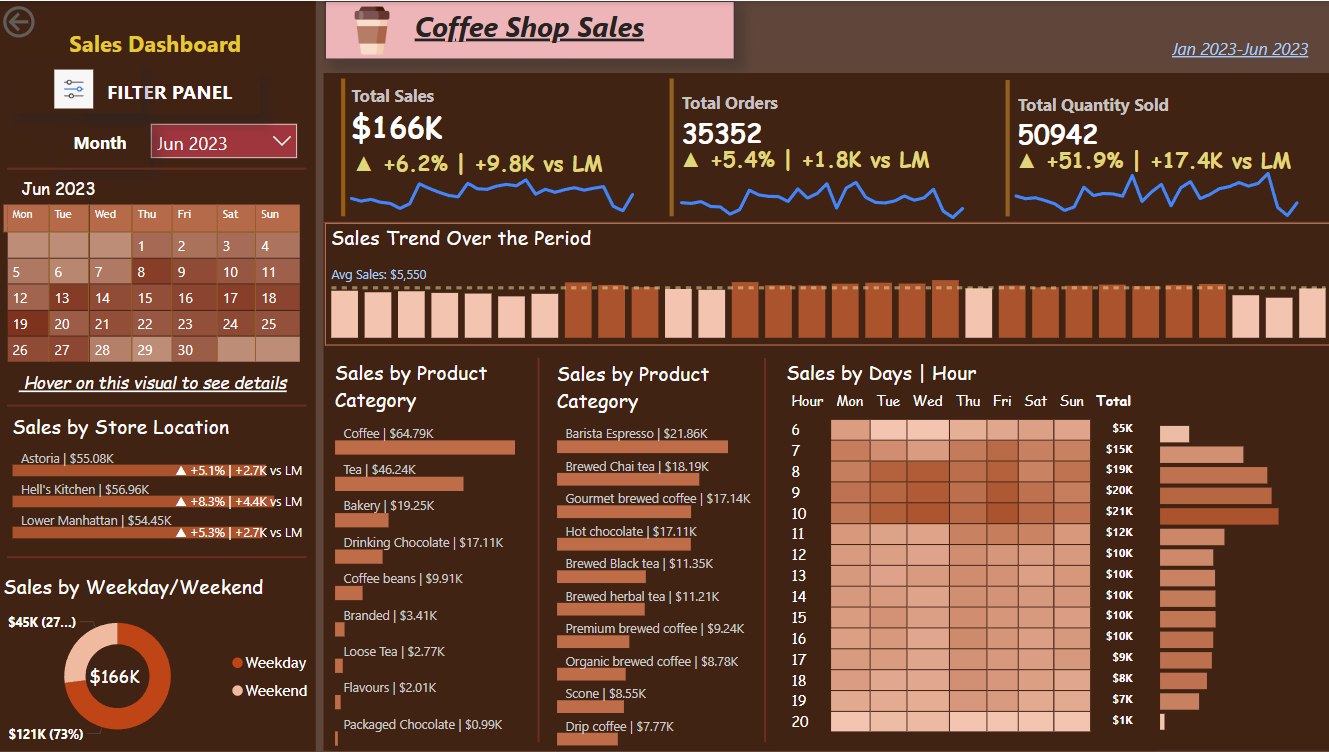

The dashboard page shown, as its layout file describes it:
{"tool":"powerbi","page":{"name":"Page 1","canvas":[1280,720],"ordinal":0},"visuals":[{"type":"textbox","box":[313.5,0,392.6,56.1],"z":0},{"type":"cardVisual","fields":{"Data":["Transactions.MoM Growth & Diff Sales"]},"box":[574.6,159.3,296.6,81.4],"z":1000},{"type":"textbox","box":[311.5,68.8,969,142.9],"z":2000},{"type":"slicer","fields":{"Values":["Date_Table.Month Year"]},"box":[25.4,113.6,193.2,47.5],"z":3000},{"type":"cardVisual","fields":{"Data":["Transactions.Total Sales"]},"box":[323.6,68.8,277.1,142.9],"z":4000},{"type":"cardVisual","fields":{"Data":["Transactions.Total Quantity Sold"]},"box":[960.4,70.6,320.1,141.1],"z":5000},{"type":"textbox","box":[0,0,304.7,719.5],"z":6000},{"type":"slicer","fields":{"Values":["Date_Table.Month Year"]},"box":[136,108.4,160.1,56.8],"z":7000},{"type":"lineChart","fields":{"Category":["Date_Table.Date Hierarchy.Date"],"Y":["Transactions.Total Sales"]},"box":[323.6,148,299.5,65.4],"z":8000},{"type":"cardVisual","fields":{"Data":["Transactions.MoM Growth & Diff Sales"]},"box":[323.6,123.9,313.3,63.7],"z":9000},{"type":"lineChart","fields":{"Category":["Date_Table.Date Hierarchy.Date"],"Y":["Transactions.Total Quantity Sold"]},"box":[960.4,148,299.5,65.4],"z":10000},{"type":"cardVisual","fields":{"Data":["Transactions.Total Orders"]},"box":[638.6,68.8,328.8,142.9],"z":11000},{"type":"lineChart","fields":{"Category":["Date_Table.Date Hierarchy.Date"],"Y":["Transactions.Total Orders"]},"box":[640.3,153.2,299.5,60.2],"z":12000},{"type":"cardVisual","fields":{"Data":["Transactions.MoM Growth & Diff Orders"]},"box":[636.9,118.8,301.2,51.6],"z":13000},{"type":"cardVisual","fields":{"Data":["Transactions.MoM Growth & Diff Quantity"]},"box":[958.7,120.5,299.5,53.4],"z":14000},{"type":"pivotTable","fields":{"Rows":["Date_Table.Week Number"],"Columns":["Date_Table.Day Name"],"Values":["Min(Date_Table.Day Num)"]},"box":[0,189.8,304.9,163.9],"z":15000},{"type":"card","fields":{"Values":["Min(Date_Table.Month Year)"]},"box":[8.6,163.9,97.8,36],"z":16000},{"type":"card","fields":{"Values":["Transactions.Foot Note"]},"box":[0,351.1,296.1,34.4],"z":17000},{"type":"donutChart","fields":{"Y":["Transactions.Total Sales"],"Category":["Date_Table.Weekday/Weekend"]},"box":[0,547.3,311.5,172.1],"z":18000},{"type":"card","fields":{"Values":["Transactions.Total Sales"]},"box":[77.5,621.4,67.1,56.8],"z":19000},{"type":"clusteredBarChart","title":"Sales by Store Location","fields":{"Category":["Transactions.store_location"],"Y":["Transactions.Placeholder","Transactions.Total Sales"]},"box":[8.6,394.2,287.4,127.4],"z":20000},{"type":"textbox","box":[311.5,213.4,969,506],"z":21000},{"type":"columnChart","title":"Sales Trend Over the Period ","fields":{"Category":["Transactions.transaction_date"],"Y":["Transactions.Total Sales"]},"box":[313.3,213.4,965.6,117],"z":22000},{"type":"clusteredBarChart","title":"Sales by Product Category","fields":{"Y":["Transactions.Placeholder","Transactions.Total Sales"],"Category":["Transactions.product_category"]},"box":[318.4,342.5,225.5,376.9],"z":23000},{"type":"clusteredBarChart","title":"Sales by Product Category","fields":{"Y":["Transactions.Placeholder","Transactions.Total Sales"],"Category":["Transactions.product_type"]},"box":[530.1,344.2,220.3,375.2],"z":24000},{"type":"pivotTable","title":"Sales by Days | Hour","fields":{"Rows":["Transactions.Hour"],"Columns":["Date_Table.Day Name"],"Values":["Transactions.Total Sales"]},"box":[750.5,342.5,358,376.9],"z":25000},{"type":"actionButton","box":[0,0,100,40],"z":26000},{"type":"barChart","fields":{"Category":["Transactions.Hour"],"Y":["Transactions.Total Sales"]},"box":[1108.5,394.2,170.4,309.8],"z":27000},{"type":"textbox","box":[49.9,118.8,94.7,39.6],"z":28000},{"type":"textbox","box":[77.5,68.8,173.8,39.6],"z":29000},{"type":"shape","box":[8.6,141.1,287.4,39.6],"z":30000},{"type":"shape","box":[8.6,368.3,287.4,39.6],"z":31000},{"type":"shape","box":[8.6,512.9,287.4,39.6],"z":32000},{"type":"shape","box":[506,342.5,24.1,368.3],"z":33000},{"type":"shape","box":[722.9,342.5,24.1,368.3],"z":34000},{"type":"textbox","box":[63.7,20.7,187.6,49.9],"z":35000},{"type":"image","box":[323.6,0,70.5,56.1],"z":36000},{"type":"image","box":[8.6,60.4,128,47.5],"z":36001},{"type":"textbox","box":[1120.3,28.8,158.2,40.3],"z":36004}]}

Visuals, with their boxes in screenshot pixels (x1, y1, x2, y2), scaled from the page's 1280x720 canvas onto the 1329x752 screenshot:
textbox: [x1=326, y1=0, x2=733, y2=59]
cardVisual - Transactions.MoM Growth & Diff Sales: [x1=597, y1=166, x2=905, y2=251]
textbox: [x1=323, y1=72, x2=1328, y2=221]
slicer - Date_Table.Month Year: [x1=26, y1=119, x2=227, y2=168]
cardVisual - Transactions.Total Sales: [x1=336, y1=72, x2=624, y2=221]
cardVisual - Transactions.Total Quantity Sold: [x1=997, y1=74, x2=1328, y2=221]
textbox: [x1=0, y1=0, x2=316, y2=751]
slicer - Date_Table.Month Year: [x1=141, y1=113, x2=307, y2=173]
lineChart - Date_Table.Date Hierarchy.Date x Transactions.Total Sales: [x1=336, y1=155, x2=647, y2=223]
cardVisual - Transactions.MoM Growth & Diff Sales: [x1=336, y1=129, x2=661, y2=196]
lineChart - Date_Table.Date Hierarchy.Date x Transactions.Total Quantity Sold: [x1=997, y1=155, x2=1308, y2=223]
cardVisual - Transactions.Total Orders: [x1=663, y1=72, x2=1004, y2=221]
lineChart - Date_Table.Date Hierarchy.Date x Transactions.Total Orders: [x1=665, y1=160, x2=976, y2=223]
cardVisual - Transactions.MoM Growth & Diff Orders: [x1=661, y1=124, x2=974, y2=178]
cardVisual - Transactions.MoM Growth & Diff Quantity: [x1=995, y1=126, x2=1306, y2=182]
pivotTable - Date_Table.Week Number x Date_Table.Day Name: [x1=0, y1=198, x2=317, y2=369]
card - Min(Date_Table.Month Year): [x1=9, y1=171, x2=110, y2=209]
card - Transactions.Foot Note: [x1=0, y1=367, x2=307, y2=403]
donutChart - Transactions.Total Sales x Date_Table.Weekday/Weekend: [x1=0, y1=572, x2=323, y2=751]
card - Transactions.Total Sales: [x1=80, y1=649, x2=150, y2=708]
"Sales by Store Location" clusteredBarChart: [x1=9, y1=412, x2=307, y2=545]
textbox: [x1=323, y1=223, x2=1328, y2=751]
"Sales Trend Over the Period " columnChart: [x1=325, y1=223, x2=1328, y2=345]
"Sales by Product Category" clusteredBarChart: [x1=331, y1=358, x2=565, y2=751]
"Sales by Product Category" clusteredBarChart: [x1=550, y1=359, x2=779, y2=751]
"Sales by Days | Hour" pivotTable: [x1=779, y1=358, x2=1151, y2=751]
actionButton: [x1=0, y1=0, x2=104, y2=42]
barChart - Transactions.Hour x Transactions.Total Sales: [x1=1151, y1=412, x2=1328, y2=735]
textbox: [x1=52, y1=124, x2=150, y2=165]
textbox: [x1=80, y1=72, x2=261, y2=113]
shape: [x1=9, y1=147, x2=307, y2=189]
shape: [x1=9, y1=385, x2=307, y2=426]
shape: [x1=9, y1=536, x2=307, y2=577]
shape: [x1=525, y1=358, x2=550, y2=742]
shape: [x1=751, y1=358, x2=776, y2=742]
textbox: [x1=66, y1=22, x2=261, y2=74]
image: [x1=336, y1=0, x2=409, y2=59]
image: [x1=9, y1=63, x2=142, y2=113]
textbox: [x1=1163, y1=30, x2=1327, y2=72]
